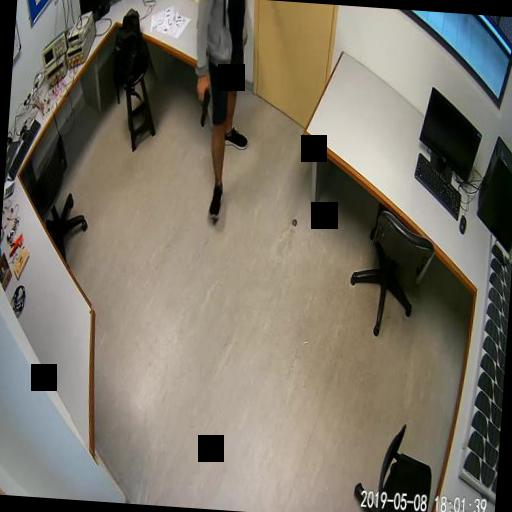Handgun: (193, 86, 210, 126)
